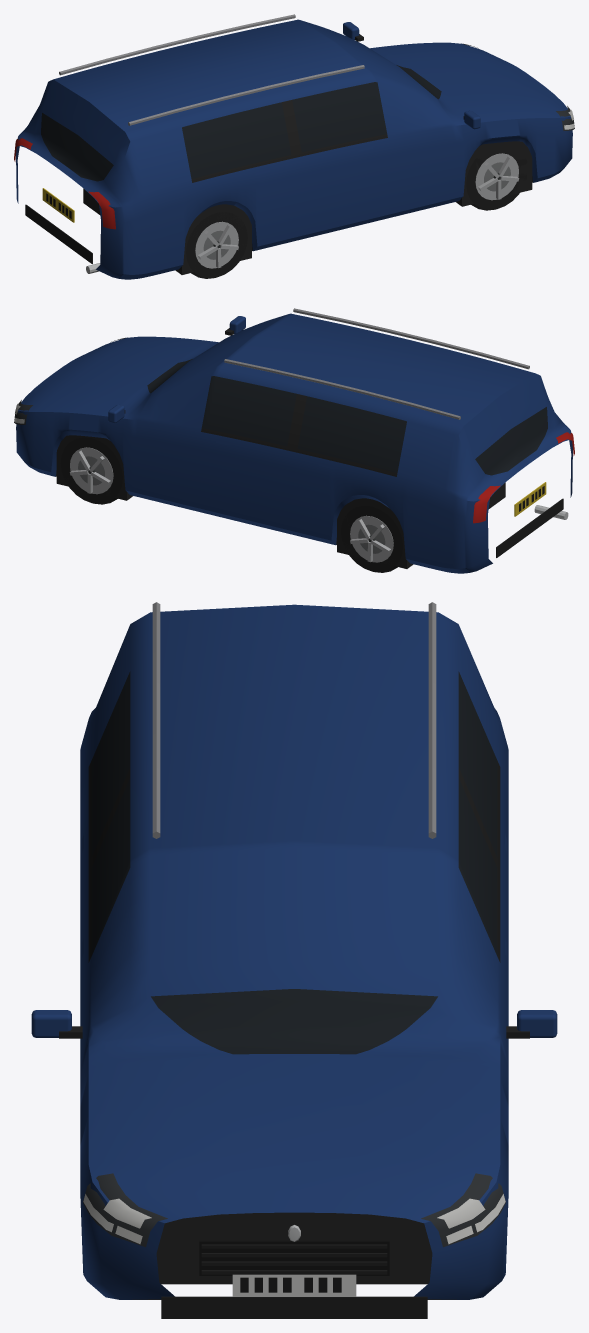
File: SM_Prop_parked_car_104.glb
The picture shows the model from 3 angles, top to bottom: view 1: azimuth 30°, elevation 25°; view 2: azimuth 150°, elevation 25°; view 3: azimuth 270°, elevation 25°; orthographic projection. The views are drawn at different scales.
Parts seen in each view (by area): view 1: SM_Prop_parked_car_104; view 2: SM_Prop_parked_car_104; view 3: SM_Prop_parked_car_104.
Part boxes in pixels (box(x1,y1,x2,y2)): SM_Prop_parked_car_104: box(14, 14, 574, 279); SM_Prop_parked_car_104: box(14, 308, 574, 573); SM_Prop_parked_car_104: box(31, 602, 557, 1318).
Size of the model in its own units: 4.68 by 1.55 by 2.21.
